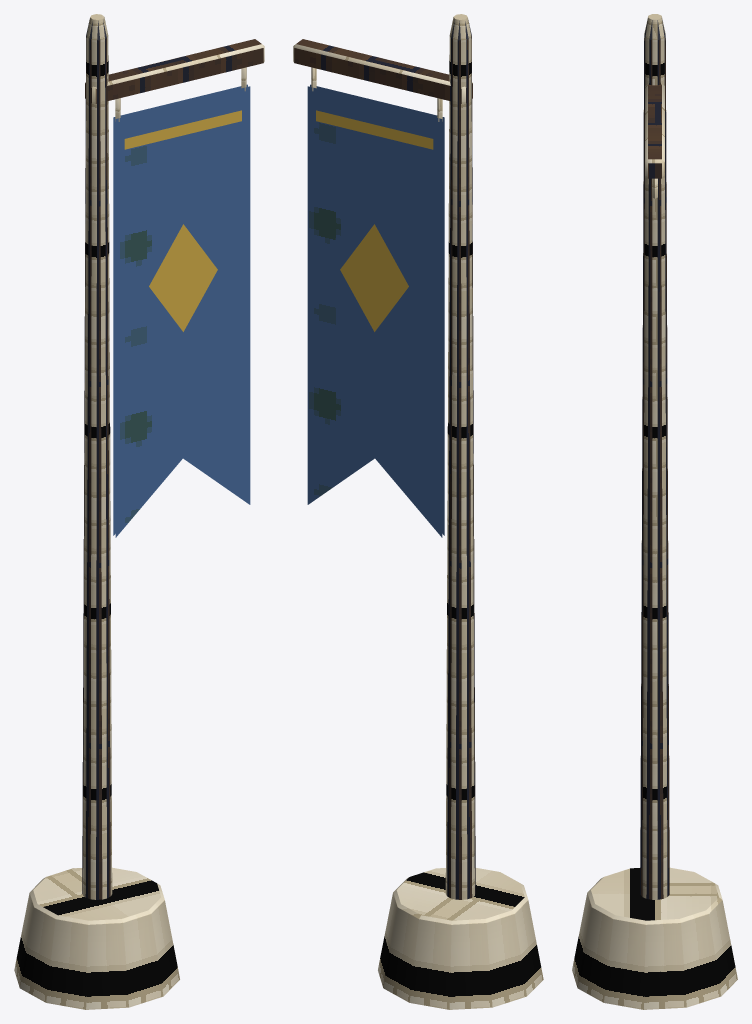
File: banner_pole_1.glb
3 views of the same model, side by side, from view 1: azimuth 30°, elevation 25°; view 2: azimuth 150°, elevation 25°; view 3: azimuth 270°, elevation 25° (orthographic).
Parts seen in each view (by area): view 1: banner_pole_2; view 2: banner_pole_2; view 3: banner_pole_2.
Boxes of the visible parts, x1,y1,x2,y2 form: banner_pole_2: (14, 14, 264, 1009); banner_pole_2: (293, 14, 543, 1009); banner_pole_2: (572, 14, 737, 1009).
Bounding box in the file's own units: 1.37 × 5.3 × 0.8325.
5 materials, 5 textured.
